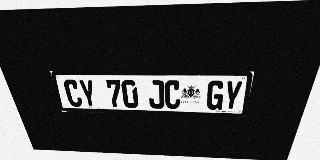0: (121, 80, 139, 108)
7: (105, 80, 124, 108)
C: (62, 79, 83, 107), (164, 80, 181, 109)
G: (206, 80, 225, 110)
J: (148, 80, 164, 109)
Y: (222, 81, 243, 110), (78, 80, 98, 107)
